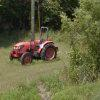Tractor: (7, 27, 62, 70)
